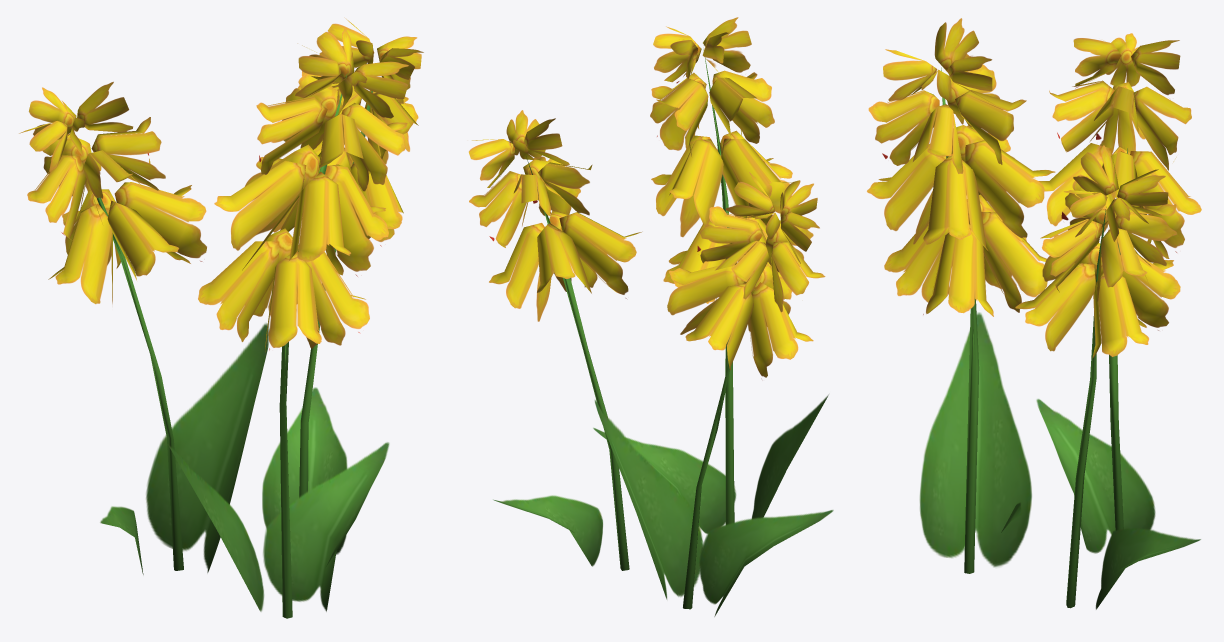
Rendered from flowers-2.glb.
3 views of the same model, side by side, from view 1: azimuth 30°, elevation 25°; view 2: azimuth 150°, elevation 25°; view 3: azimuth 270°, elevation 25° (orthographic). The views are drawn at different scales.
Parts seen in each view (by area): view 1: Flower_4_Group; view 2: Flower_4_Group; view 3: Flower_4_Group.
Part boxes in pixels (left/top/right/bottom): Flower_4_Group: left=19, top=17, right=423, bottom=618; Flower_4_Group: left=468, top=17, right=833, bottom=616; Flower_4_Group: left=867, top=18, right=1201, bottom=609.
Bounding box in the file's own units: 1.78 × 2.49 × 1.37.
Materials: 2 (2 with a texture image).
